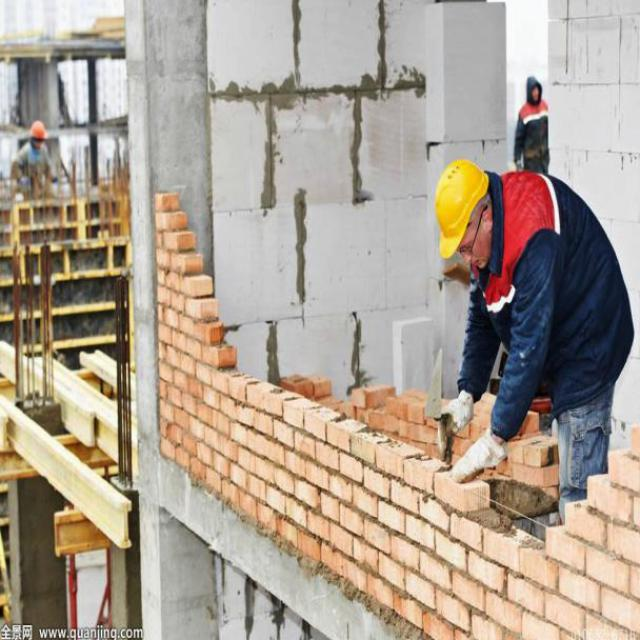gloves: (453, 411, 502, 493), (430, 371, 472, 448)
helmet: (427, 148, 502, 286)
